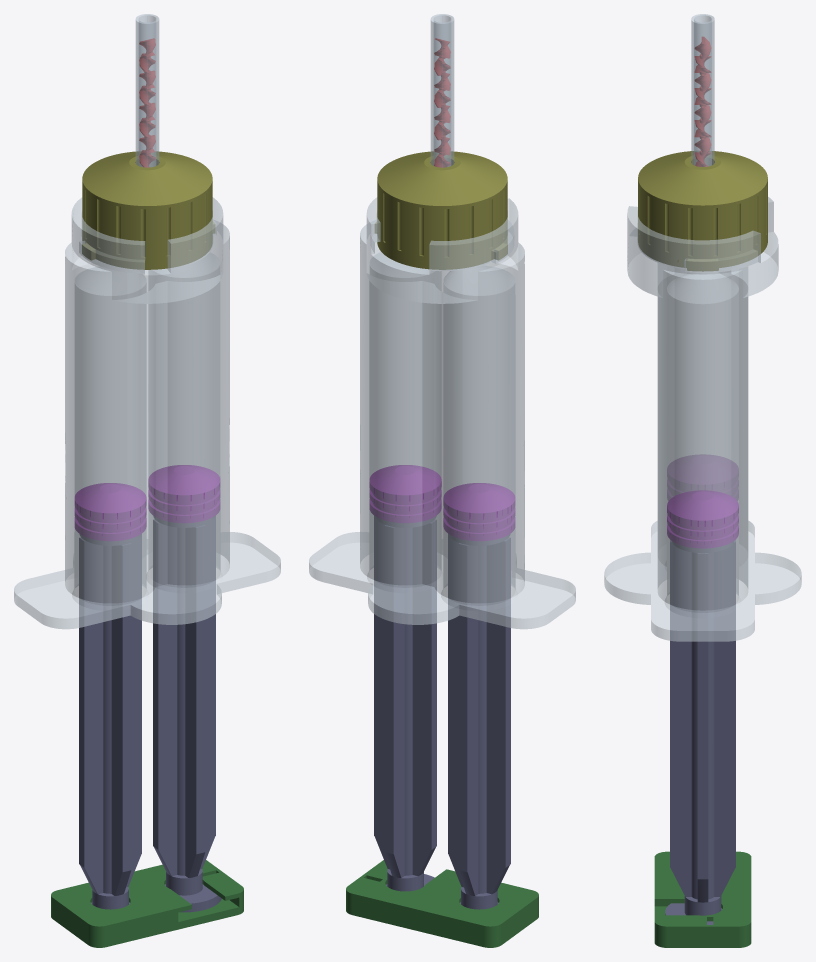
File: coseal_device_dispense.glb
3 renders of one model, left to right at view 1: azimuth 30°, elevation 25°; view 2: azimuth 150°, elevation 25°; view 3: azimuth 270°, elevation 25°, orthographic.
Visible parts, largest first — view 1: coseal_device_dispense (×7); view 2: coseal_device_dispense (×7); view 3: coseal_device_dispense (×7).
Boxes of the visible parts, x1,y1,x2,y2 form: coseal_device_dispense (×7): (14,14,280,947); coseal_device_dispense (×7): (309,14,575,947); coseal_device_dispense (×7): (604,14,801,947).
Size of the model in its own units: 0.0461 by 0.1666 by 0.0334.
